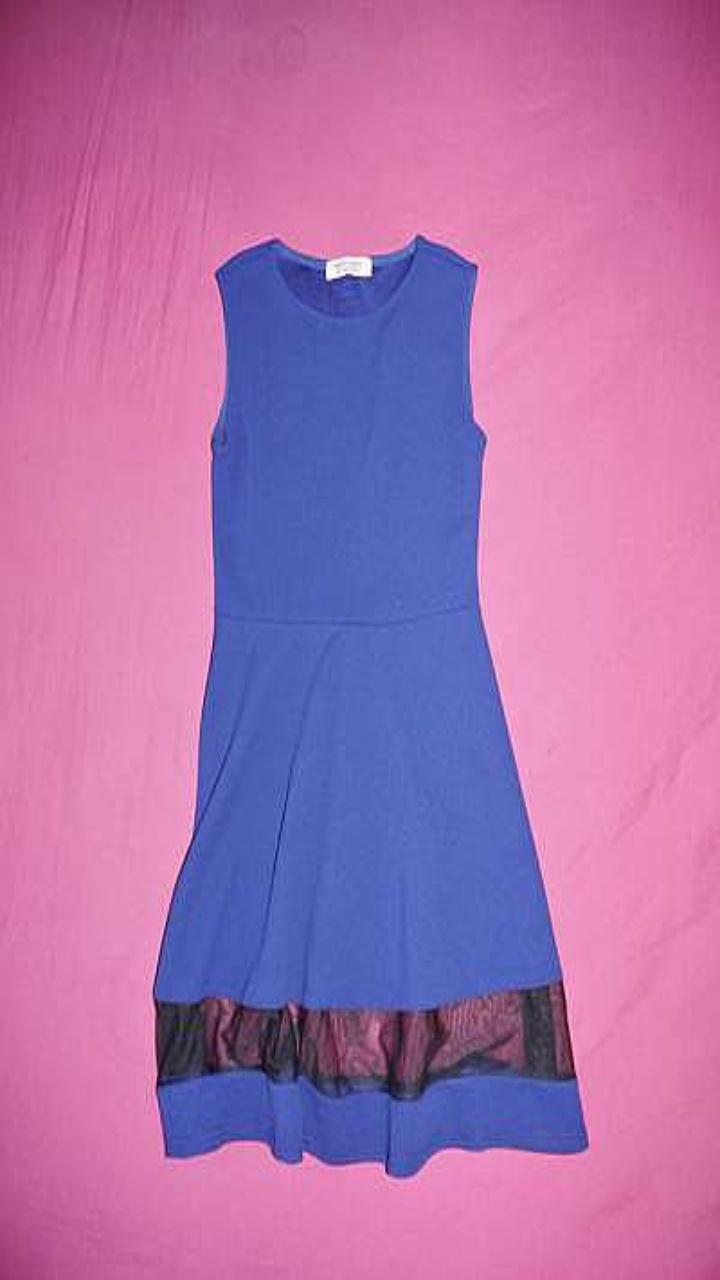Dresses: (153, 234, 587, 1175)
